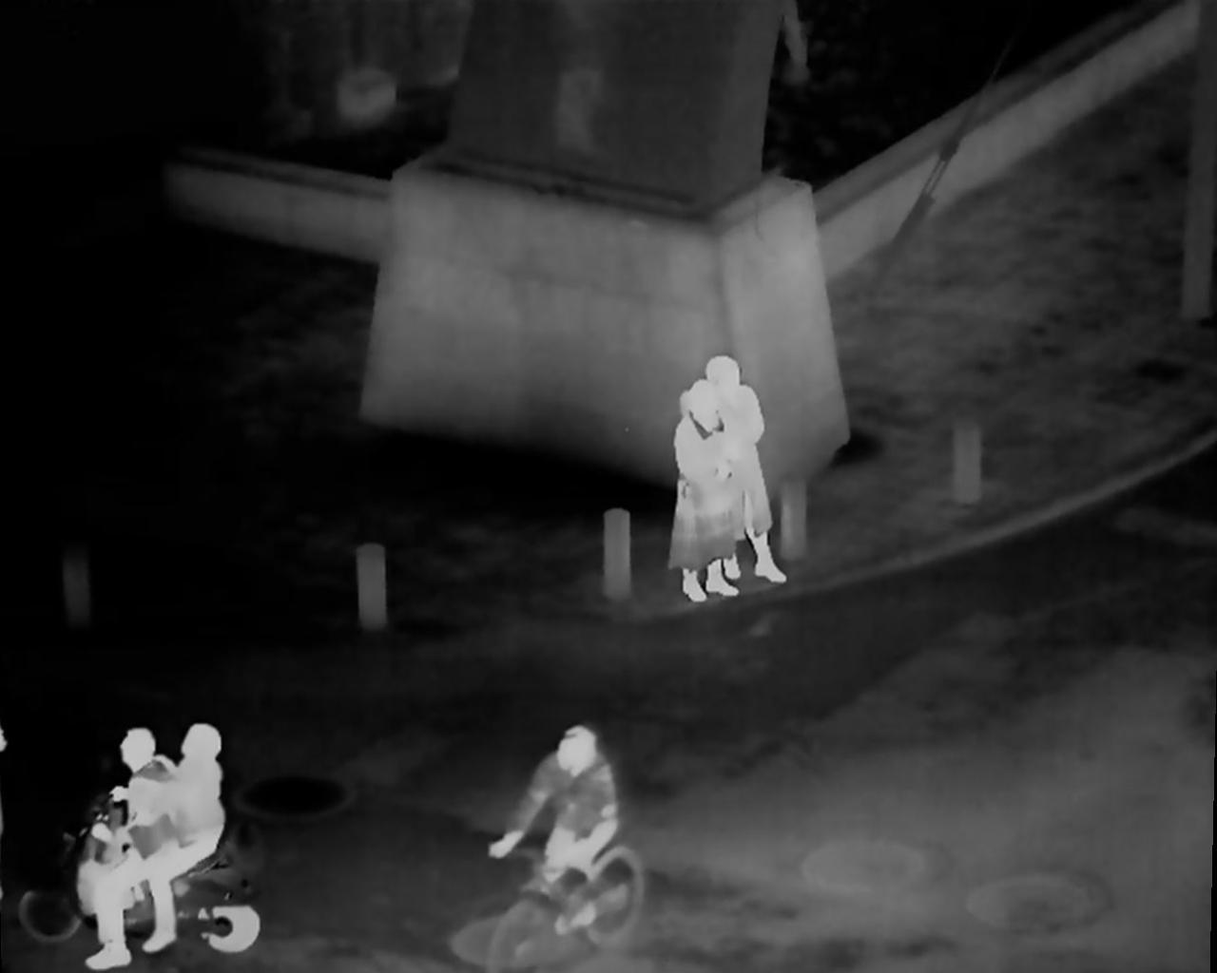person: (485, 723, 621, 935), (85, 731, 179, 967), (701, 355, 785, 589), (670, 380, 737, 602), (168, 721, 225, 960)
